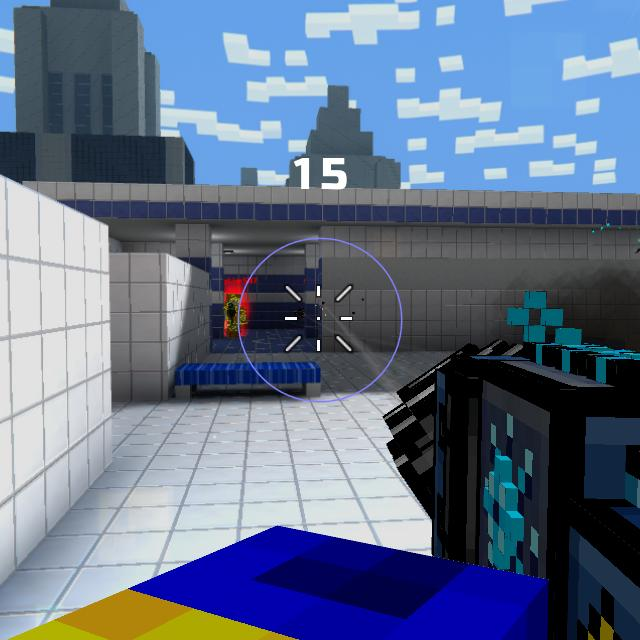Enemy: (224, 293, 247, 337)
